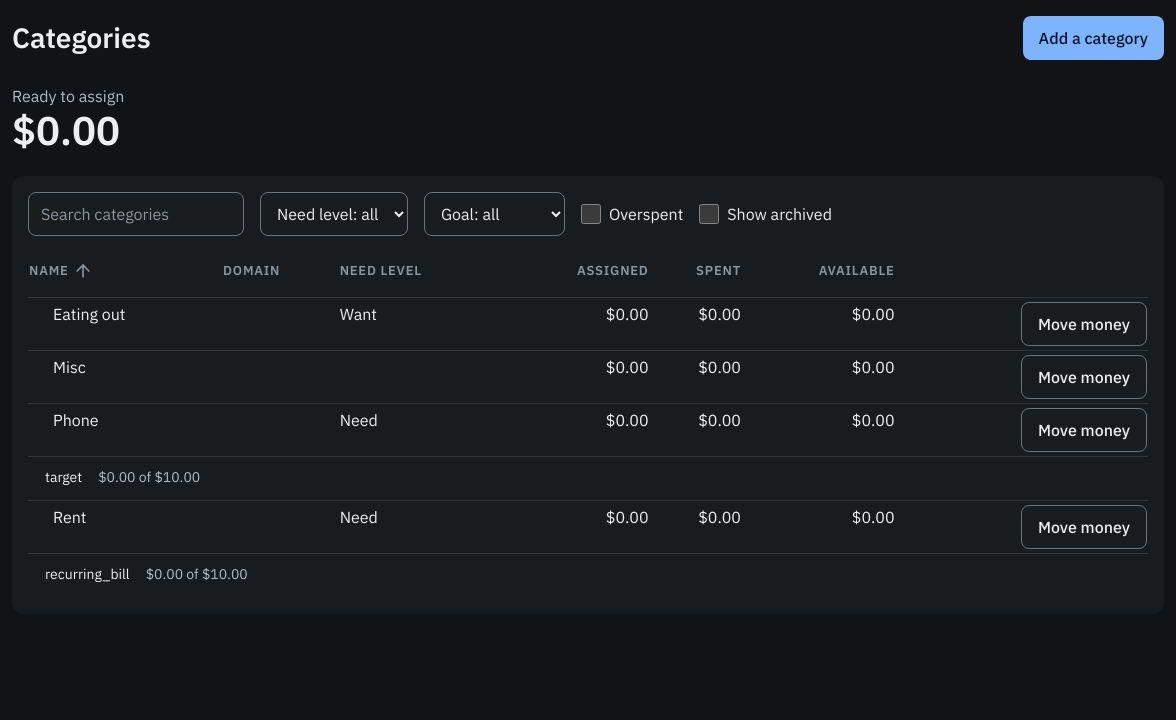
Test case: Categories filters › combines the name search with a facet
Expected: the text "Rent" is shown, 53,507 -> 86,527
Select "Need" in the dropdown named "Filter by need level" at (334, 214), box 260,192 -> 408,236
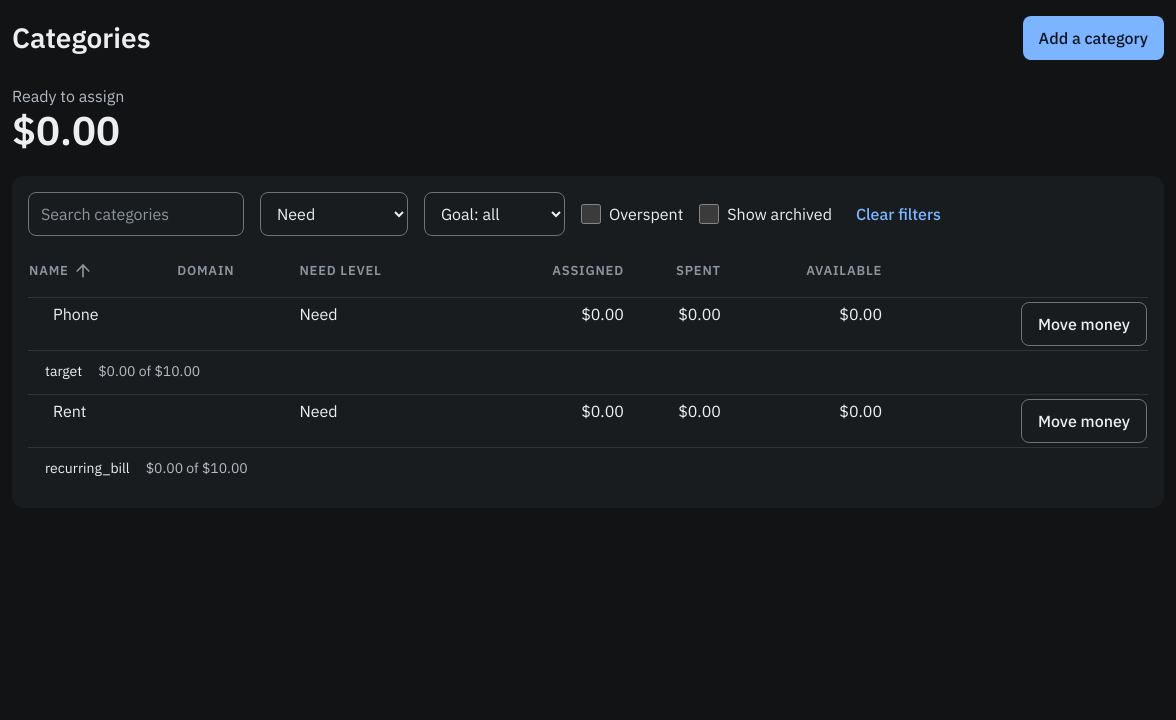
Type "pho" into the field labelled "Search categories" at (136, 214), box 28,192 -> 244,236
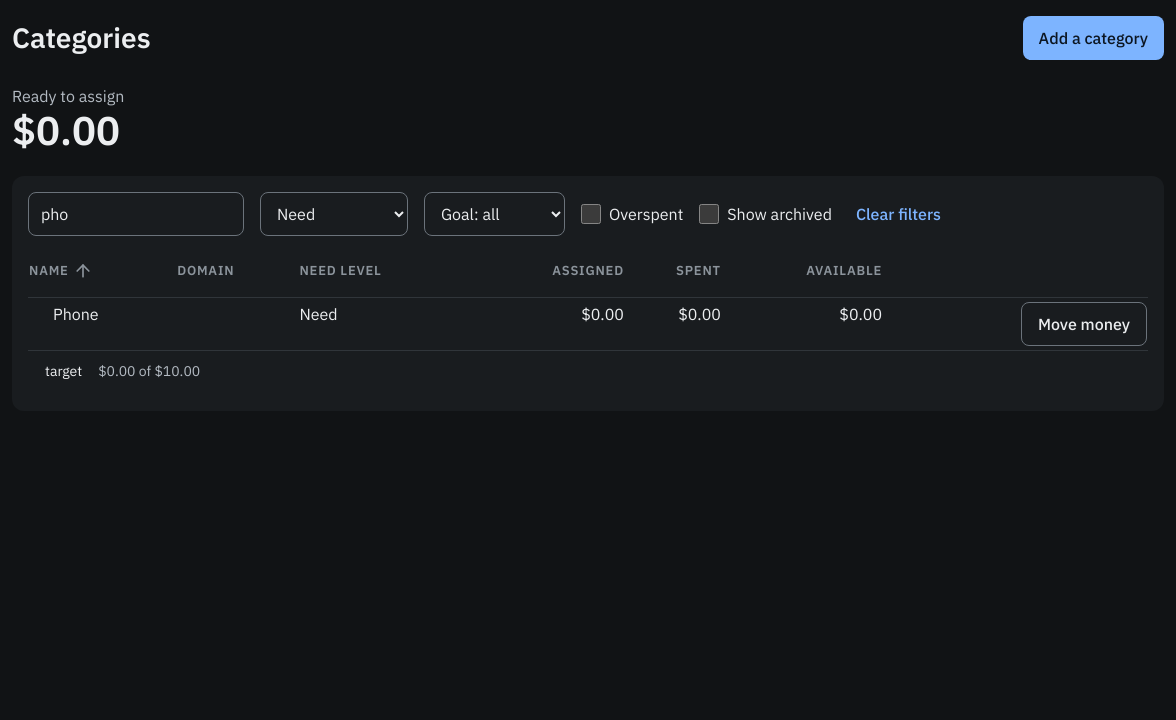
Expected: the text "Phone" is shown, 53,304 -> 99,324
Now the text "Rent" is gone
